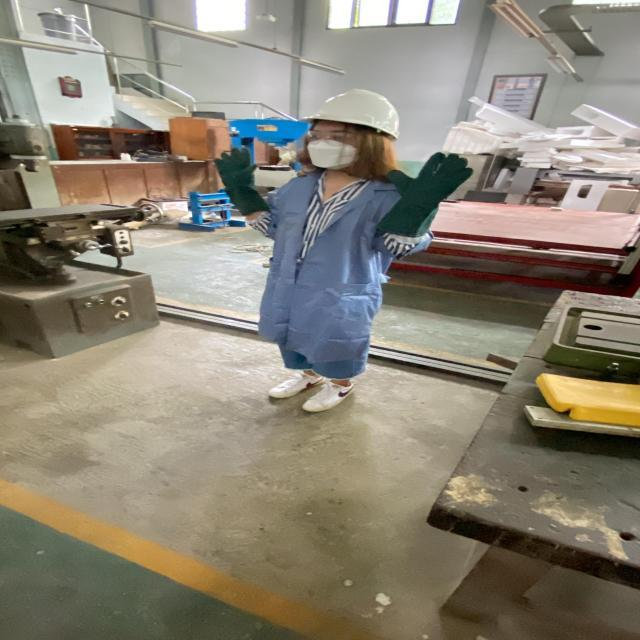glasses: (300, 129, 366, 146)
